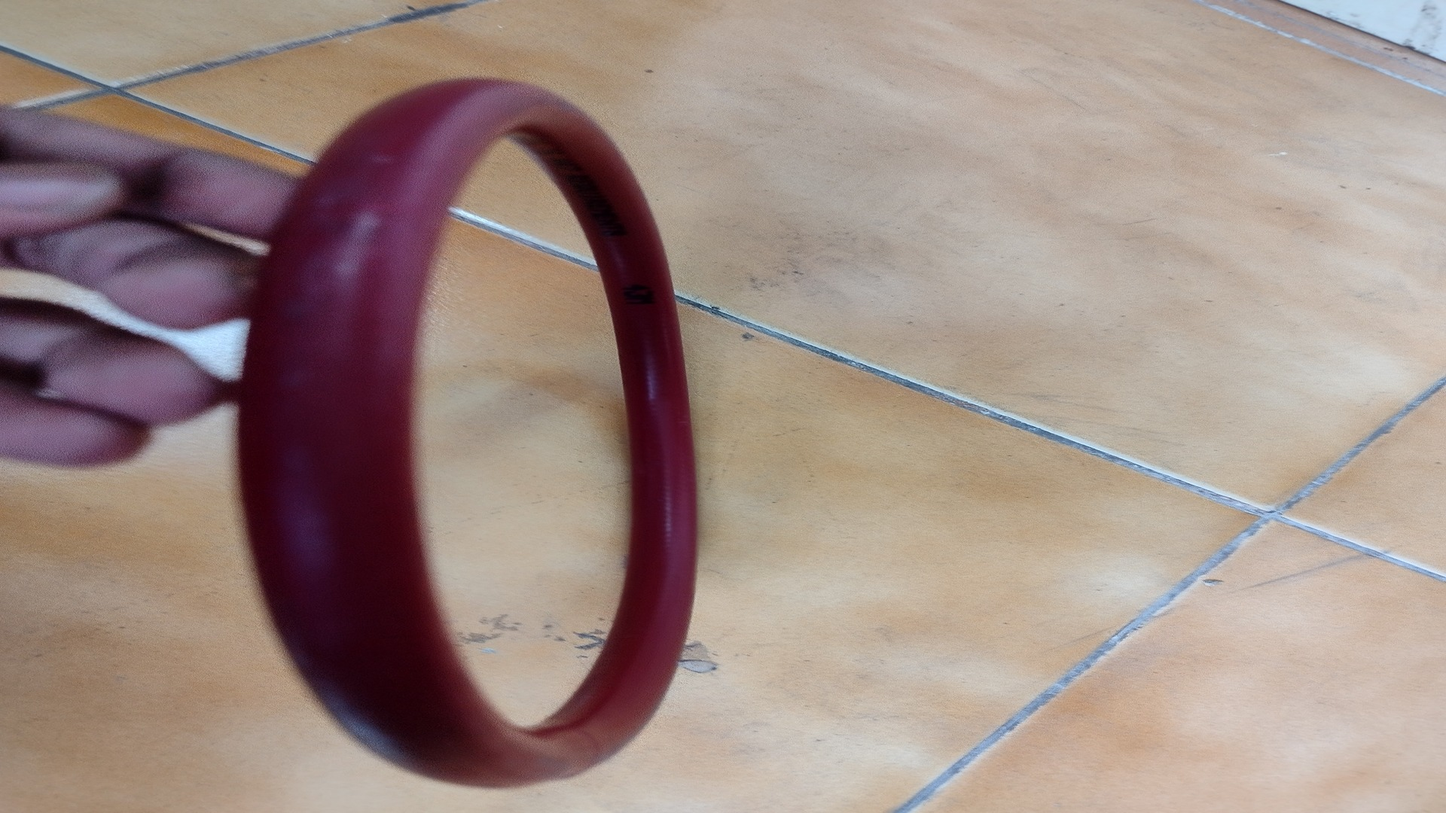Red ring: (269, 79, 698, 784)
